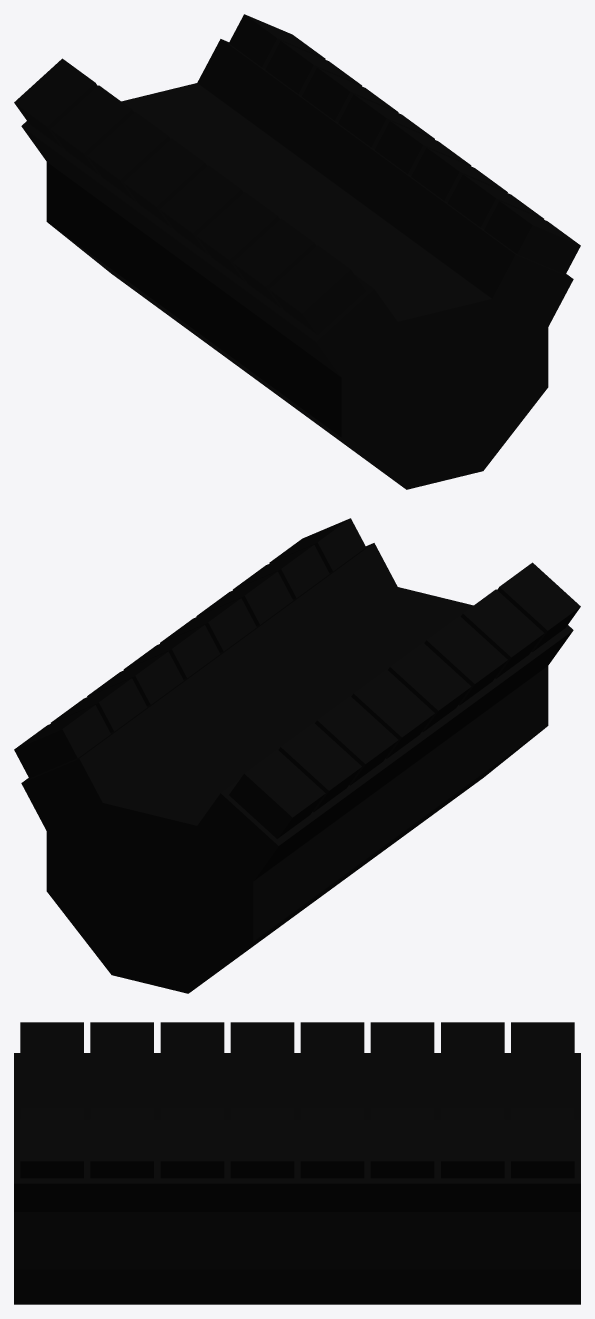
The model's file is v96performante.obj.
3 views of the same model, one above another, from view 1: azimuth 30°, elevation 25°; view 2: azimuth 150°, elevation 25°; view 3: azimuth 270°, elevation 25° (orthographic). The views are drawn at different scales.
Parts seen in each view (by area): view 1: cube; view 2: cube; view 3: cube.
Boxes of the visible parts, left/top/right/bottom form: cube: left=14, top=14, right=580, bottom=489; cube: left=14, top=518, right=580, bottom=993; cube: left=14, top=1022, right=580, bottom=1304.
Size of the model in its own units: 0.827 by 0.6543 by 1.52.
